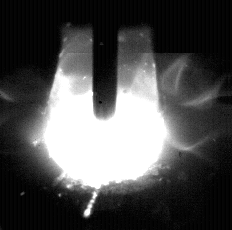arame: (94, 0, 118, 121)
poca: (43, 0, 167, 230)
